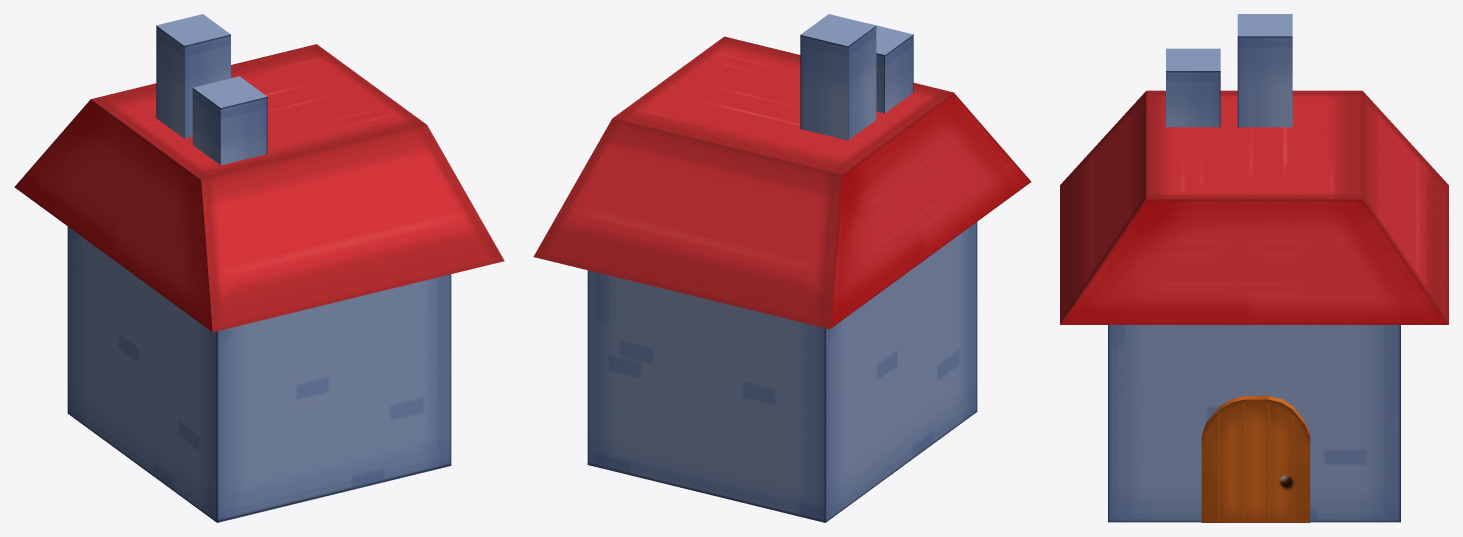
File: House_10.fbx
3 views of the same model, side by side, from view 1: azimuth 30°, elevation 25°; view 2: azimuth 150°, elevation 25°; view 3: azimuth 270°, elevation 25° (orthographic). The views are drawn at different scales.
Parts seen in each view (by area): view 1: House_10; view 2: House_10; view 3: House_10.
Boxes of the visible parts, x1=… form: House_10: x1=14, y1=14, x2=504, y2=522; House_10: x1=533, y1=14, x2=1031, y2=522; House_10: x1=1060, y1=14, x2=1448, y2=522.
Size of the model in its own units: 4.48 by 6.16 by 5.27.
